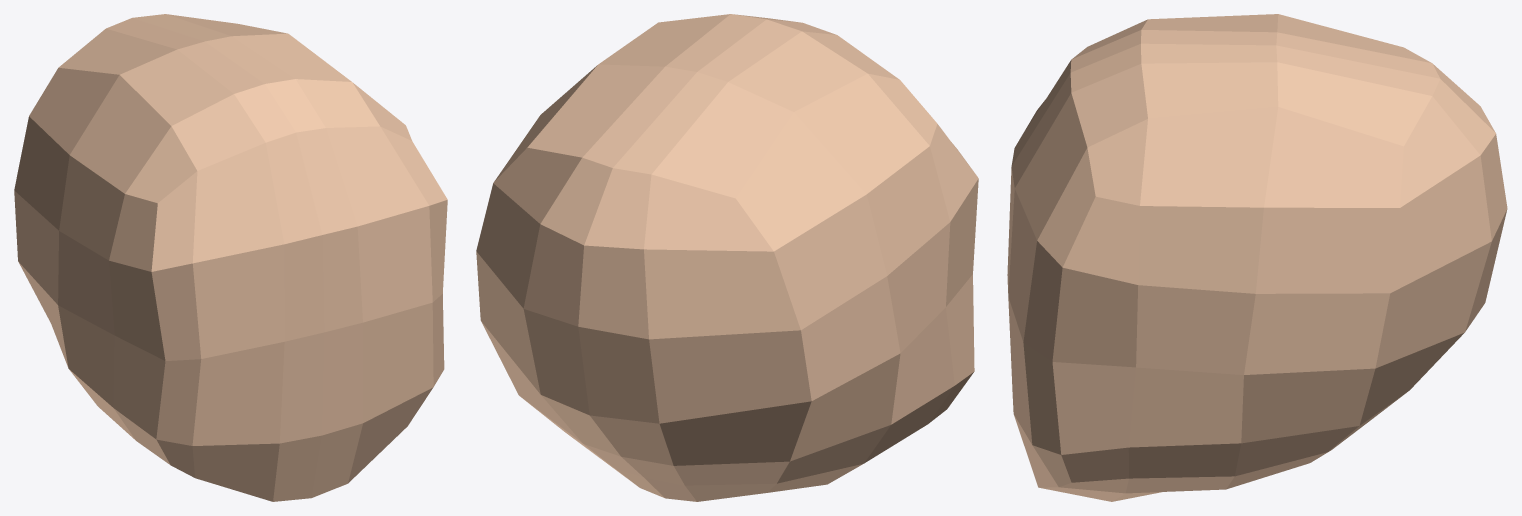
File: Cabeza_Pera.fbx
3 renders of one model, left to right at view 1: azimuth 30°, elevation 25°; view 2: azimuth 150°, elevation 25°; view 3: azimuth 270°, elevation 25°, orthographic. The views are drawn at different scales.
Parts seen in each view (by area): view 1: Cabeza_Pera1; view 2: Cabeza_Pera1; view 3: Cabeza_Pera1.
Part boxes in pixels (bbox=[...]): Cabeza_Pera1: bbox=[14, 14, 447, 501]; Cabeza_Pera1: bbox=[476, 14, 978, 501]; Cabeza_Pera1: bbox=[1007, 14, 1507, 501].
Bounding box in the file's own units: 2.52 × 2.93 × 3.
